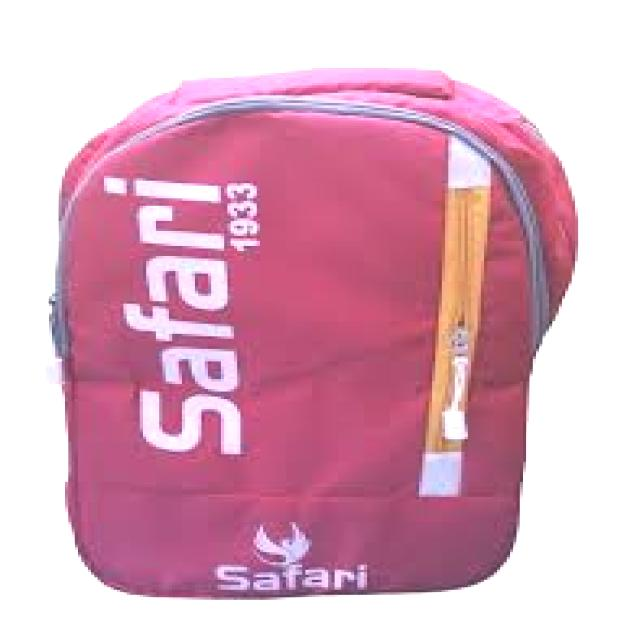backpack: (44, 64, 580, 601)
